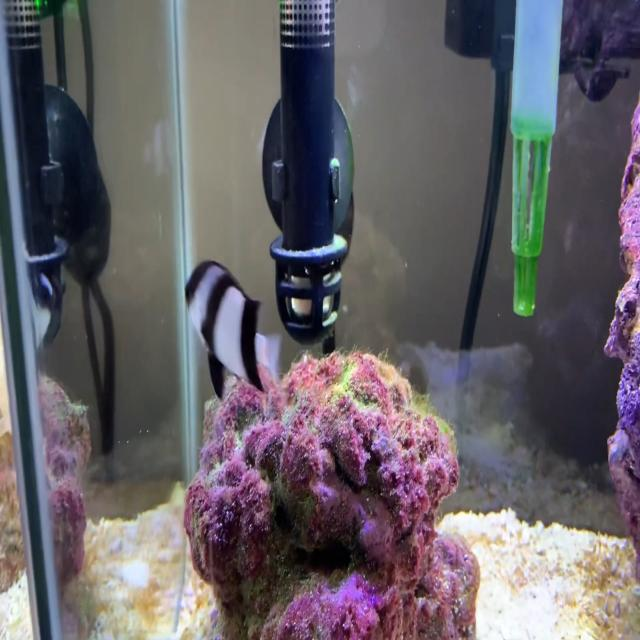ThreeStripedDamselfish: (185, 261, 280, 399)
